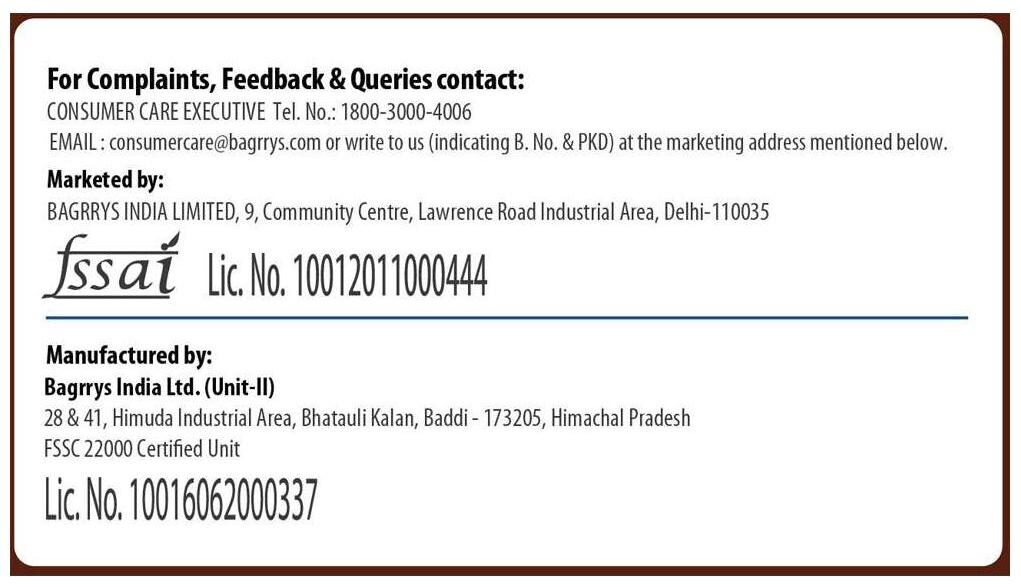fssai: (42, 229, 181, 300)
